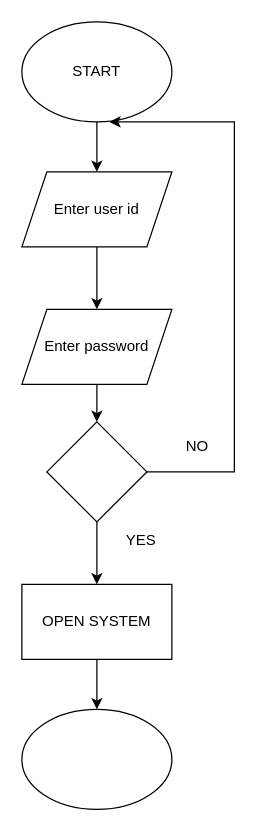
The diagram is 266 pixels wide and 831 high, and some of its shapes have lost their labels. The centre of each missing label's shape, as x and y in pixels:
CORRECT DETAILS: [96,471]
STOP: [96,758]
